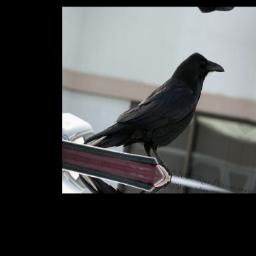Crow: (81, 31, 227, 185)
